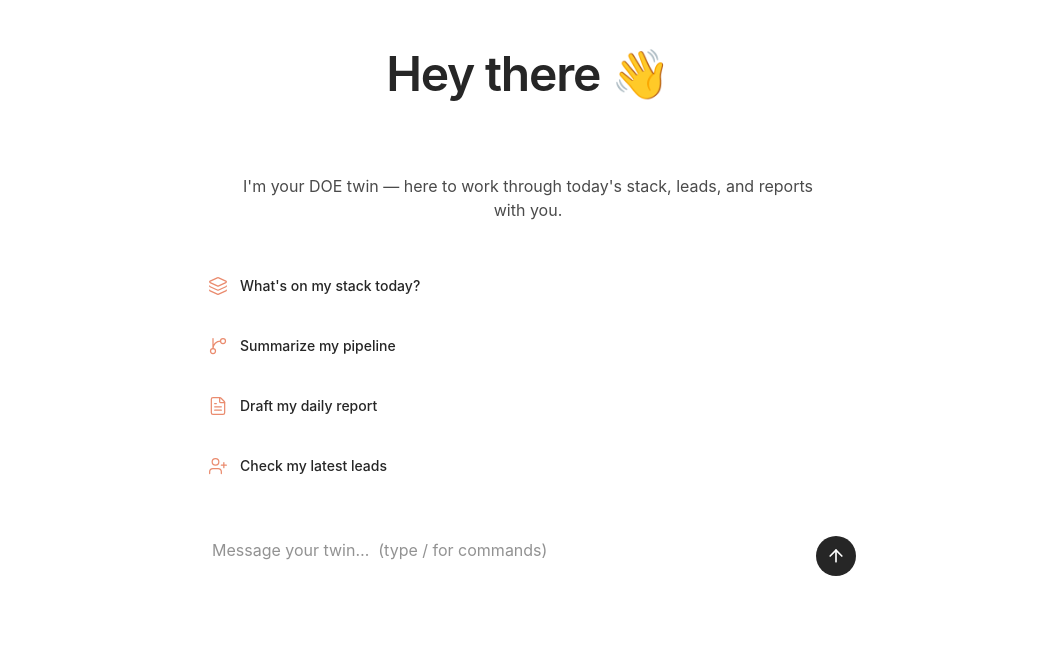
Scenario: HomeChat › retains the input and shows a non-blocking error on a retain-input failure (Req 1.7)
Step 1. Type "delegate a task" into the text box labelled "Message" → (504, 550), box [200,530,808,570]
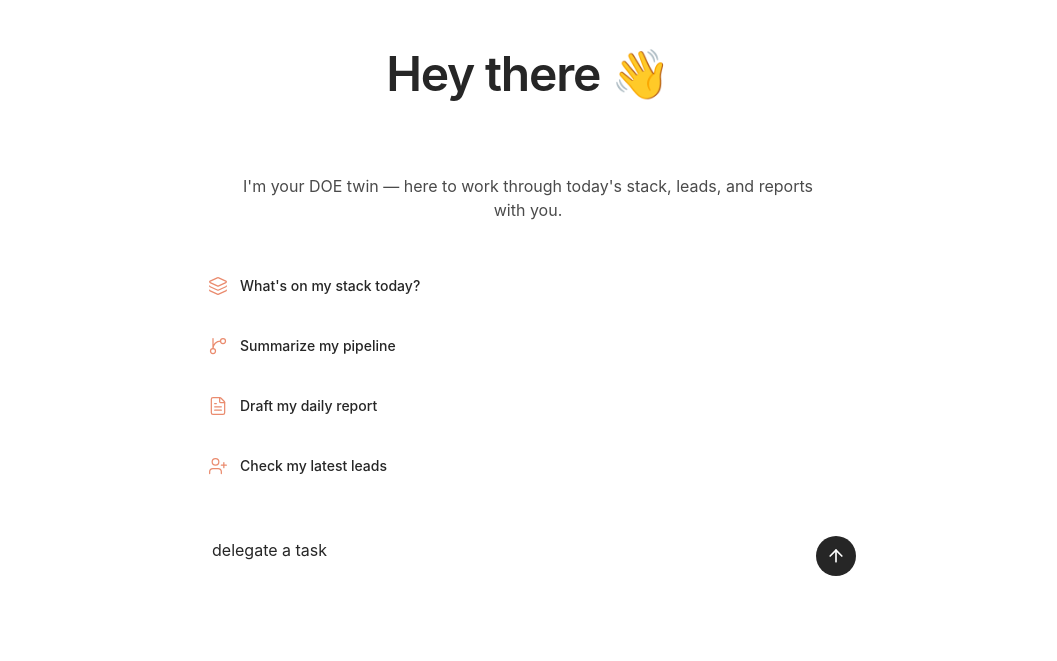
Step 2. Click the button named "send" → (836, 556), box [816,536,856,576]
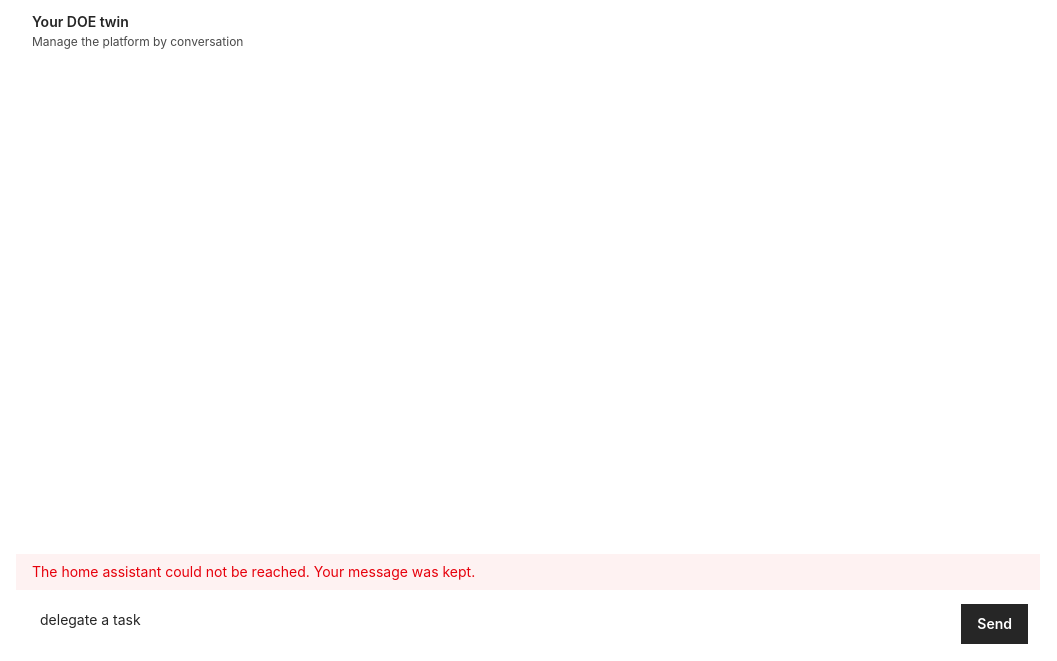
Expected: the text box named "Message" holds "delegate a task", [28,602,953,638]
Expected: the message "The home assistant could not be reached. Your message was kept." is shown, [16,554,1040,590]
